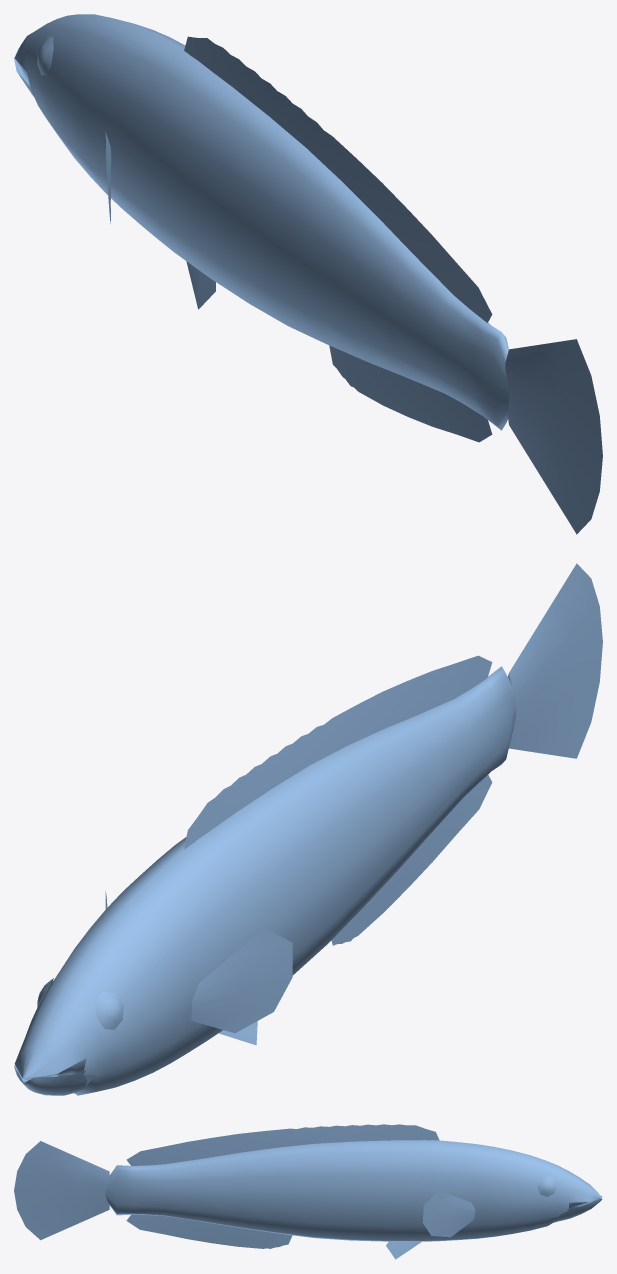
The model's file is wrasse_cleaner_lo.glb.
3 views of the same model, one above another, from view 1: azimuth 30°, elevation 25°; view 2: azimuth 150°, elevation 25°; view 3: azimuth 270°, elevation 25° (orthographic). The views are drawn at different scales.
Parts seen in each view (by area): view 1: wrasse_cleaner_lo; view 2: wrasse_cleaner_lo; view 3: wrasse_cleaner_lo.
Part boxes in pixels (x1=…): wrasse_cleaner_lo: x1=14, y1=14, x2=602, y2=534; wrasse_cleaner_lo: x1=14, y1=563, x2=602, y2=1095; wrasse_cleaner_lo: x1=14, y1=1124, x2=602, y2=1259.
Bounding box in the file's own units: 0.0463 × 0.0599 × 0.2497.
